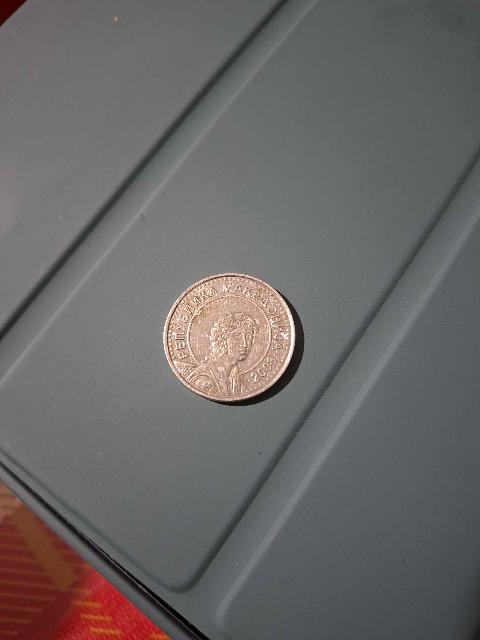coin: (172, 277, 291, 398)
